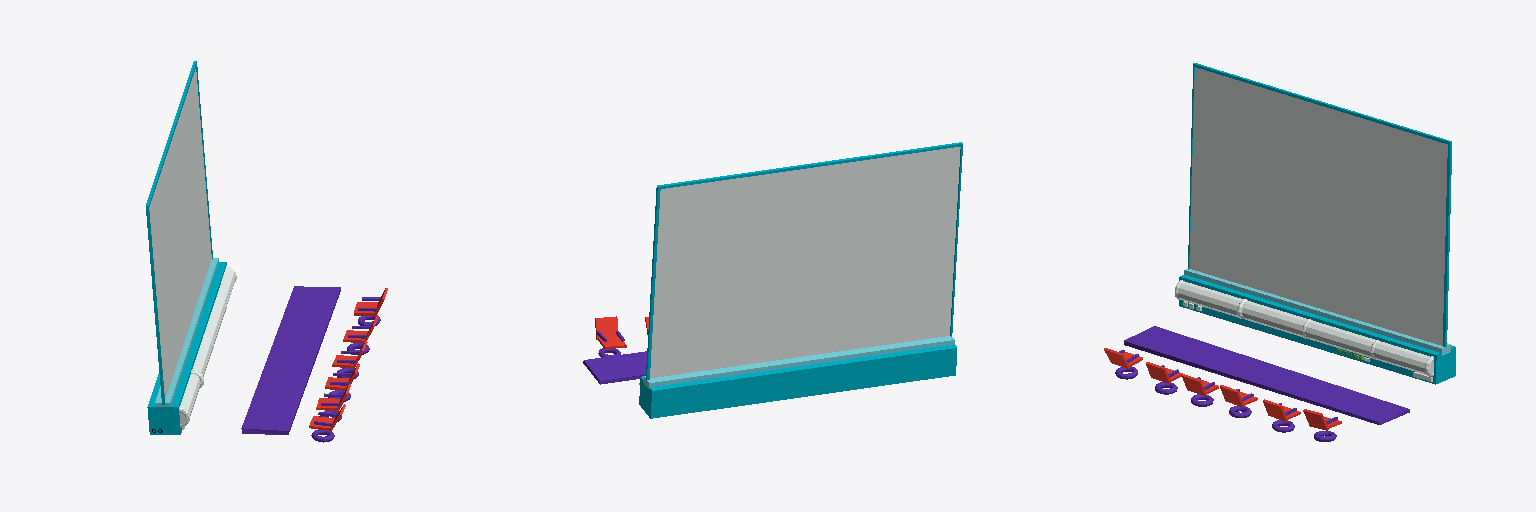
The picture shows the model from 3 angles: view 1: azimuth 30°, elevation 25°; view 2: azimuth 150°, elevation 25°; view 3: azimuth 270°, elevation 25°; orthographic projection.
Visible parts, largest first — view 1: group[number redacted], group[number redacted]; view 2: group[number redacted], group[number redacted]; view 3: group[number redacted], group[number redacted].
Part boxes in pixels (bbox=[...]): group[number redacted]: bbox=[146, 61, 236, 434]; group[number redacted]: bbox=[241, 286, 387, 442]; group[number redacted]: bbox=[639, 142, 962, 418]; group[number redacted]: bbox=[583, 316, 648, 384]; group[number redacted]: bbox=[1175, 63, 1455, 384]; group[number redacted]: bbox=[1104, 326, 1409, 441].
Bounding box in the file's own units: 5.27 × 4.17 × 5.26.